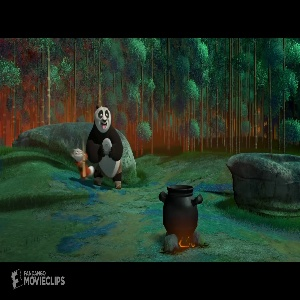po: (87, 103, 124, 188)
shifu: (71, 145, 95, 179)
